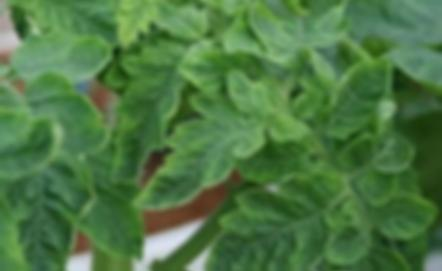Tomato leaf mosaic virus: (134, 99, 286, 219), (194, 176, 343, 271), (110, 38, 187, 183), (10, 170, 78, 271), (321, 54, 394, 145), (3, 0, 133, 50), (11, 33, 113, 92), (169, 44, 259, 94), (243, 0, 308, 69), (368, 194, 431, 247)
